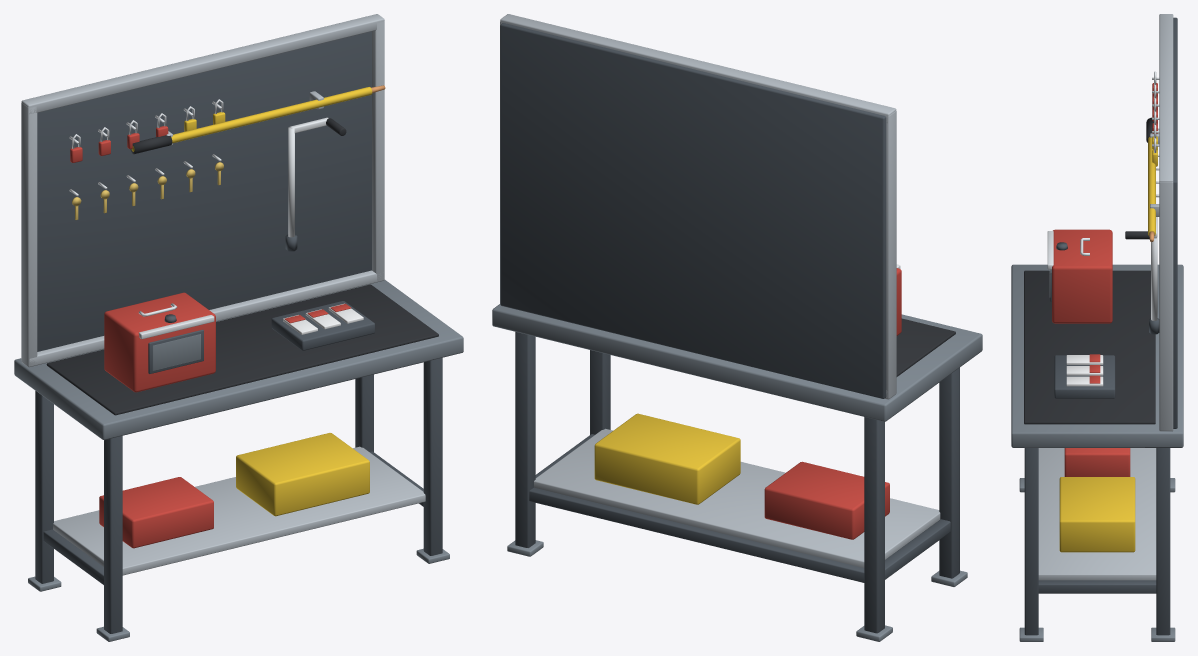
File: key-board.glb
3 views of the same model, side by side, from view 1: azimuth 30°, elevation 25°; view 2: azimuth 150°, elevation 25°; view 3: azimuth 270°, elevation 25° (orthographic). The views are drawn at different scales.
Parts seen in each view (by area): view 1: KeyBoardAssembly; view 2: KeyBoardAssembly; view 3: KeyBoardAssembly.
Part boxes in pixels (x1,y1,x2,y2): KeyBoardAssembly: (14, 14, 463, 641); KeyBoardAssembly: (492, 14, 982, 641); KeyBoardAssembly: (1011, 14, 1183, 641).
Bounding box in the file's own units: 1.58 × 2.03 × 0.68.
